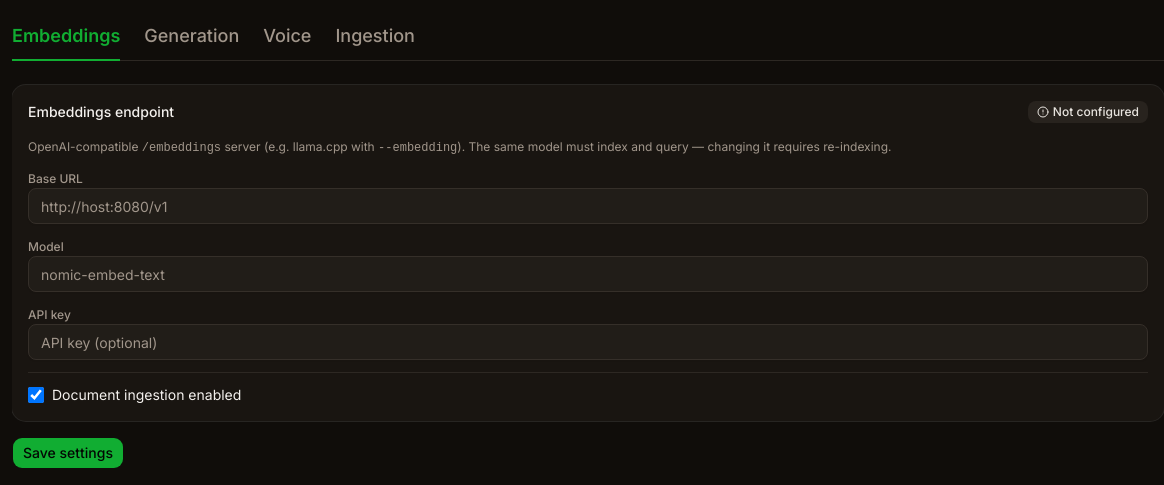
AiSettingsForm — ingestion failure reasons › falls back gracefully when a failed row has no stored message
This screenshot has width=1164, height=485.
Click the tab "Ingestion": point(375, 36) [335,12,415,61]
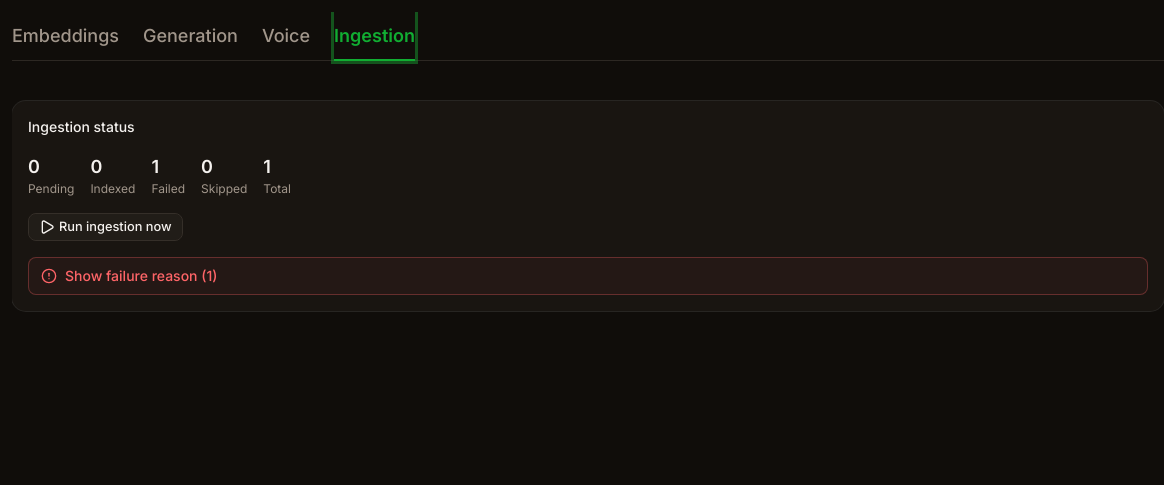
Click the button "Show failure reason (1)": point(84, 276) [29,258,1147,294]
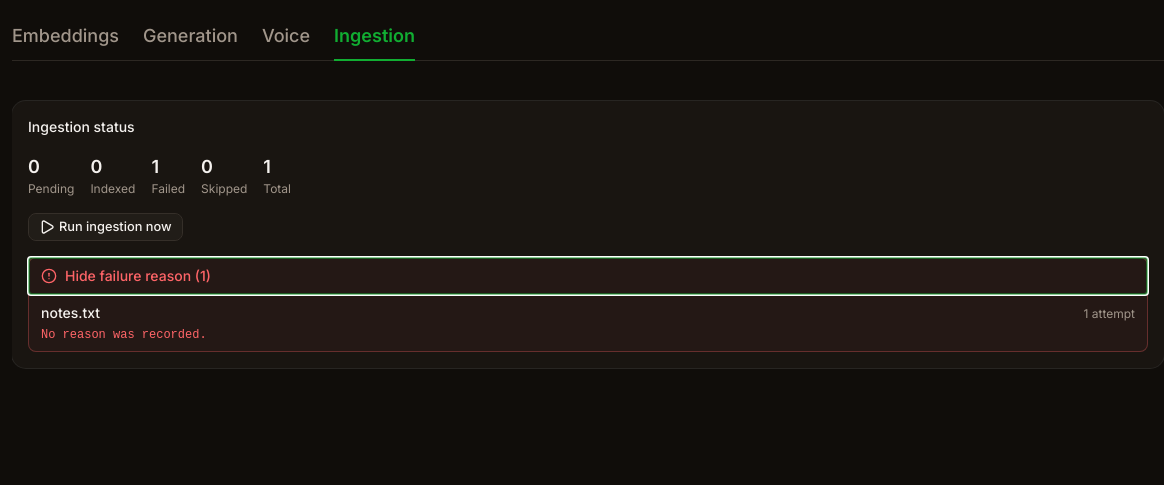
Check: the text "No reason was recorded." is shown, box [41,328,207,342]
